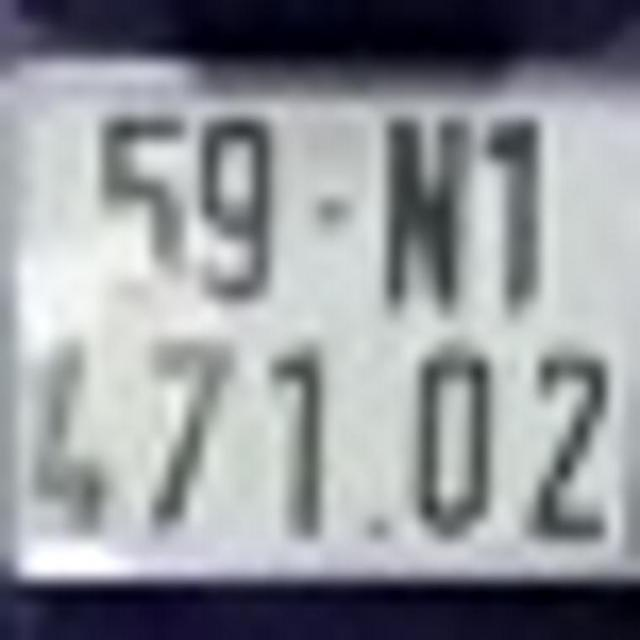0: (408, 327, 494, 544)
1: (485, 106, 549, 313), (270, 336, 334, 538)
2: (528, 344, 614, 546)
4: (32, 329, 110, 544)
5: (102, 112, 188, 309)
7: (139, 337, 241, 536)
9: (194, 115, 278, 319)
N: (383, 111, 468, 315)
